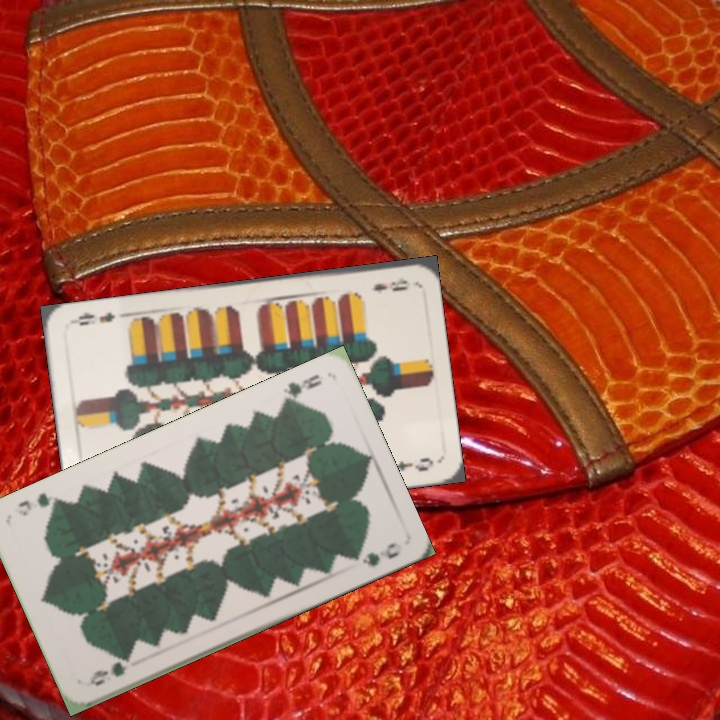E9: (369, 273, 411, 295)
G9: (277, 370, 325, 409), (85, 651, 134, 689)
